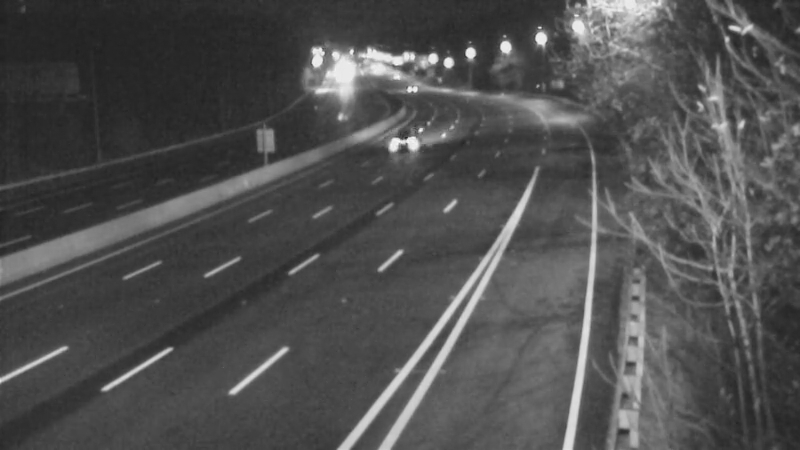vehicle: (384, 63, 434, 113), (372, 115, 422, 165)
